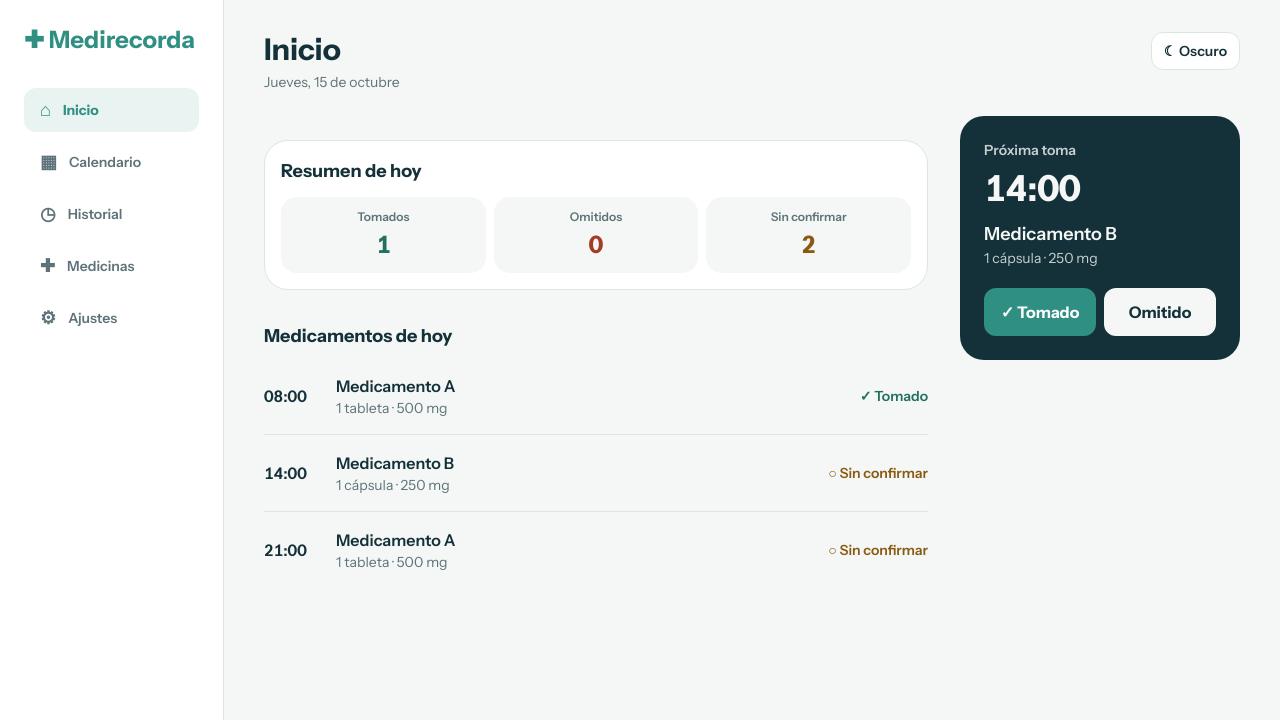
Test case: selector de idioma › ofrece los seis idiomas, con español de México como predeterminado
What coordinates should you click on to do the following:
click the button "✚ Medicinas"
I would click on:
 (112, 266)
Its box is [24,244,199,288].
(page scrolled)
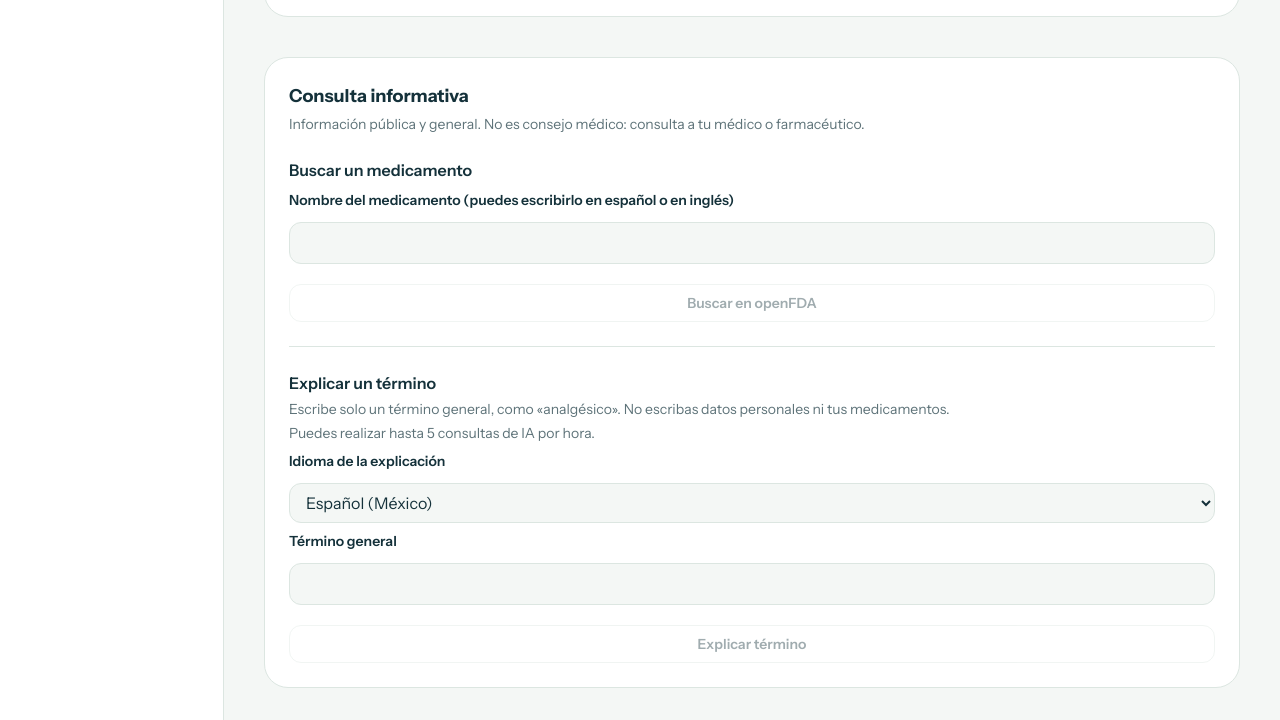
Expected: the dropdown labelled "Idioma de la explicación" shows "Español (México)", [289,483,1215,523]
